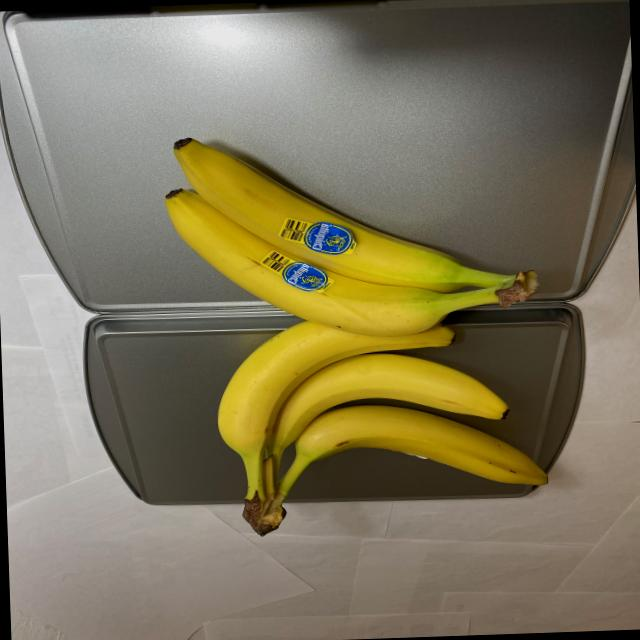banana: (156, 120, 552, 344), (214, 317, 556, 538)
